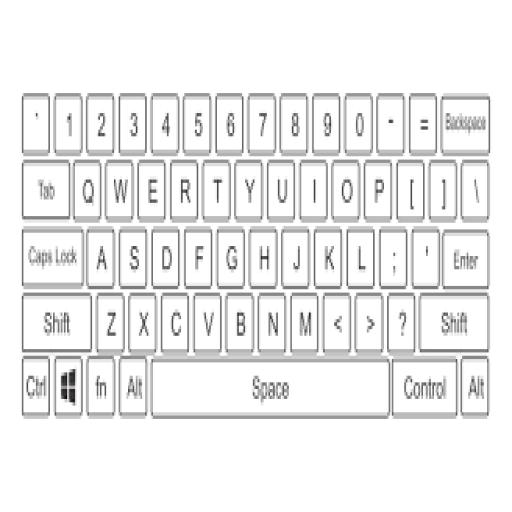KEYBOARD-2: (19, 85, 495, 433)
